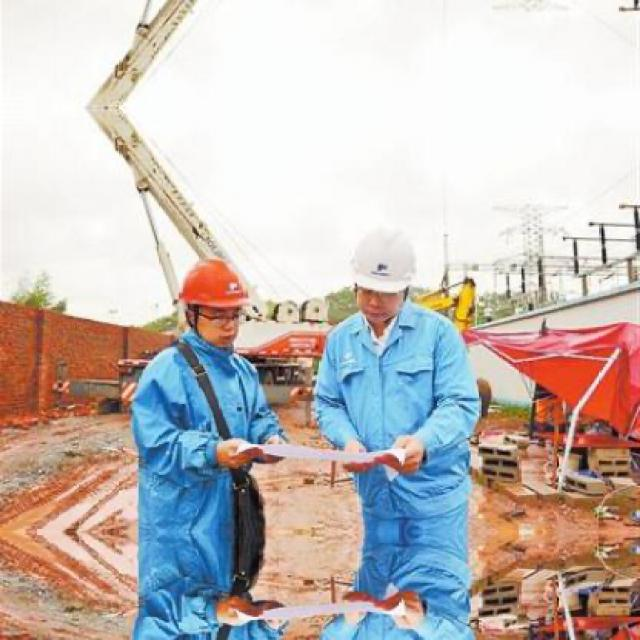helmet: (338, 219, 420, 330), (174, 251, 260, 347)
